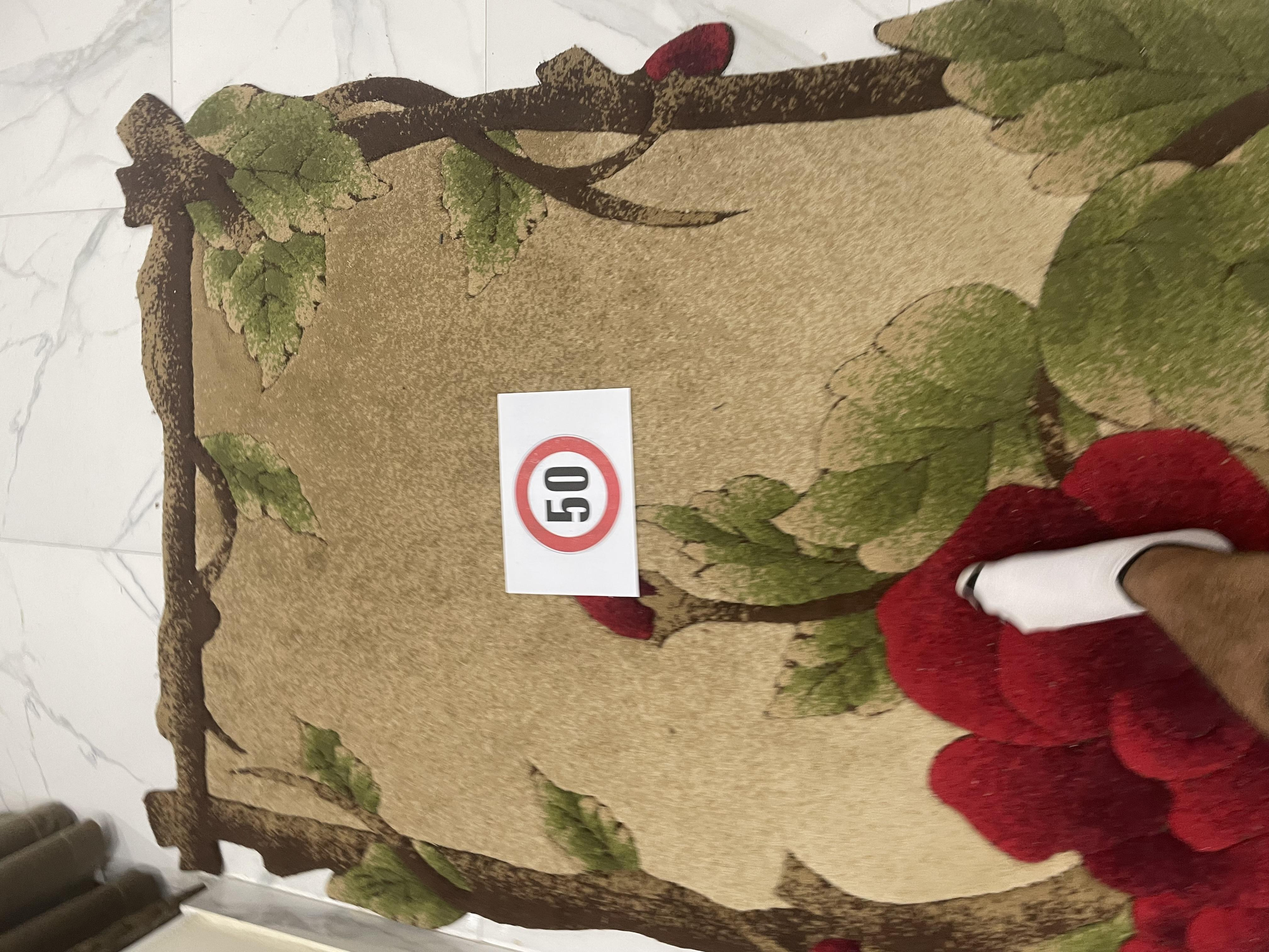50-Speed: (528, 383, 691, 467)
